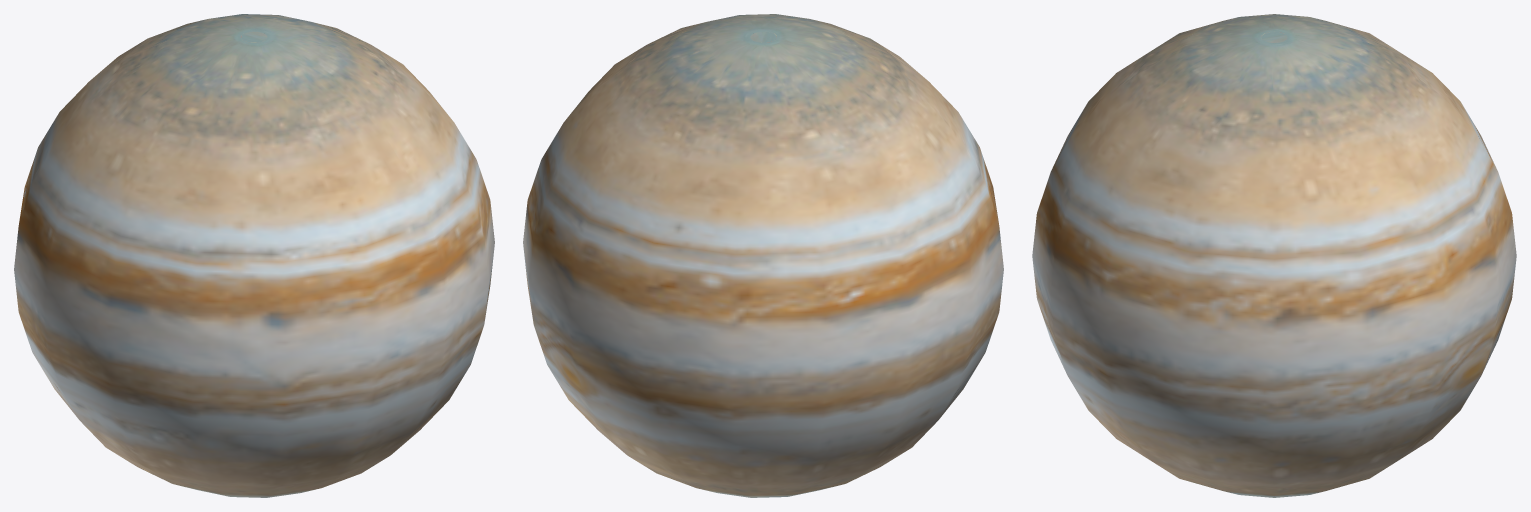
File: Jupiter.fbx
3 renders of one model, left to right at view 1: azimuth 30°, elevation 25°; view 2: azimuth 150°, elevation 25°; view 3: azimuth 270°, elevation 25°, orthographic.
Parts seen in each view (by area): view 1: Jupiter; view 2: Jupiter; view 3: Jupiter.
Boxes of the visible parts, x1=… form: Jupiter: x1=14, y1=14, x2=494, y2=497; Jupiter: x1=523, y1=14, x2=1003, y2=497; Jupiter: x1=1032, y1=14, x2=1516, y2=497.
Bounding box in the file's own units: 15.91 × 15.84 × 15.91.
